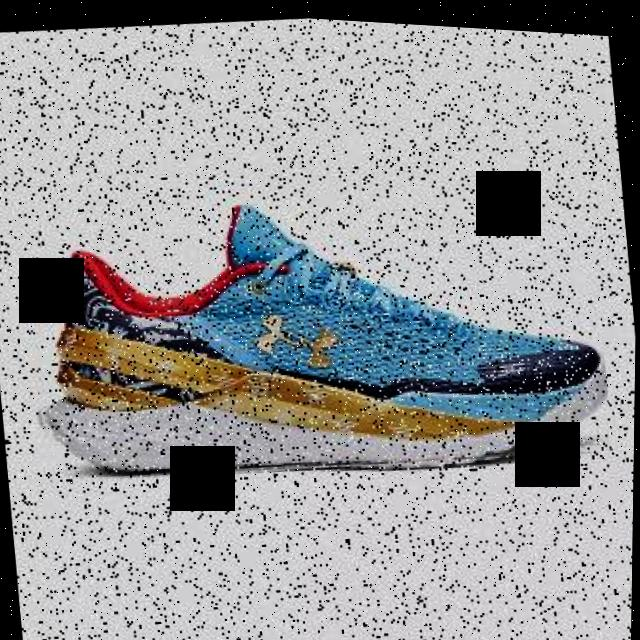shoe: (12, 153, 617, 510)
